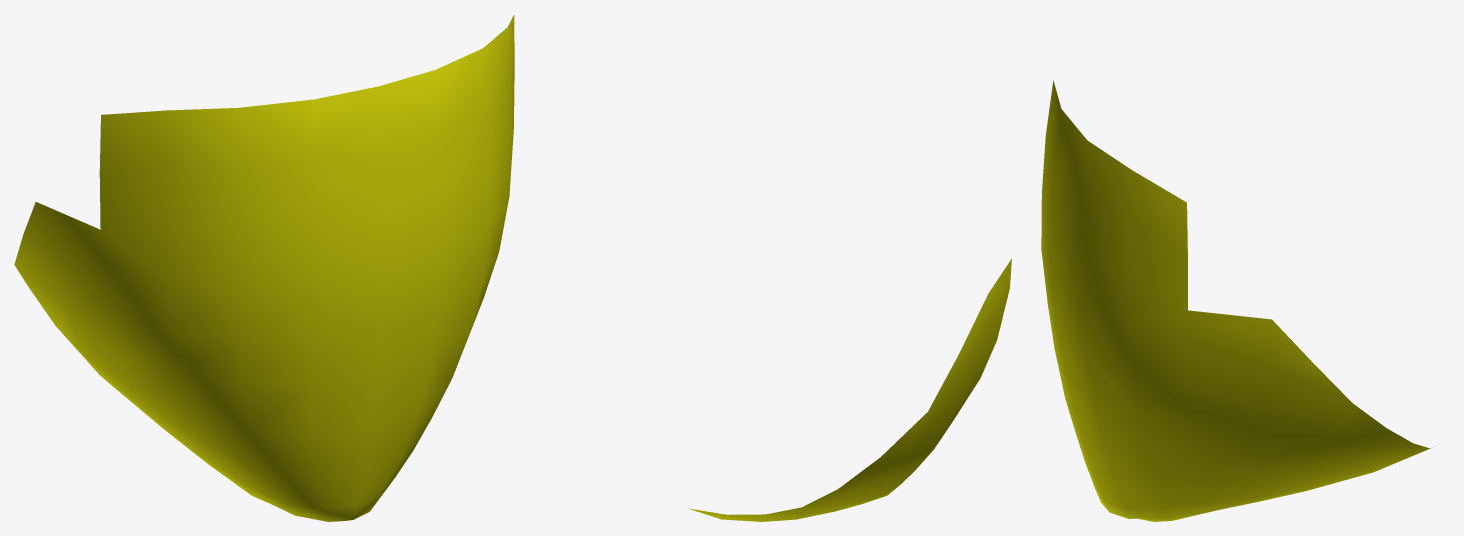
File: Faceline_8.glb
3 renders of one model, left to right at view 1: azimuth 30°, elevation 25°; view 2: azimuth 150°, elevation 25°; view 3: azimuth 270°, elevation 25°, orthographic. The views are drawn at different scales.
Size of the model in its own units: 52.6 by 51.44 by 43.9.
